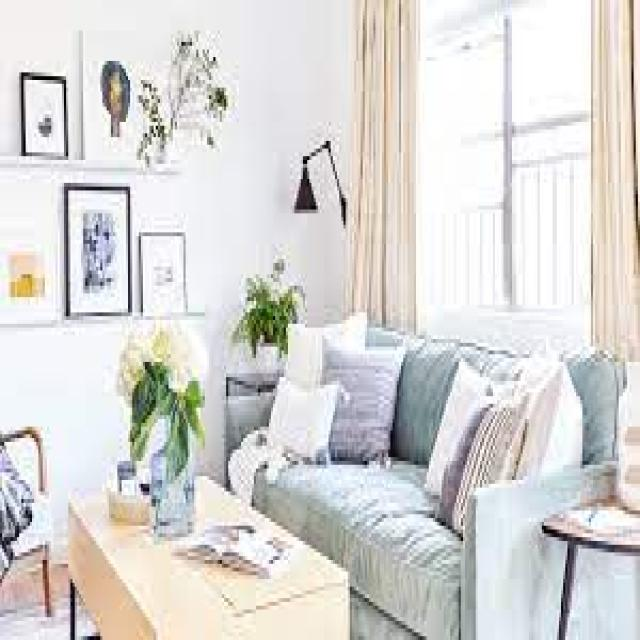Chair: (1, 402, 56, 628)
Lamp: (281, 133, 348, 231)
Sofa: (205, 271, 625, 629)
Table: (55, 454, 354, 640), (543, 473, 640, 637)
